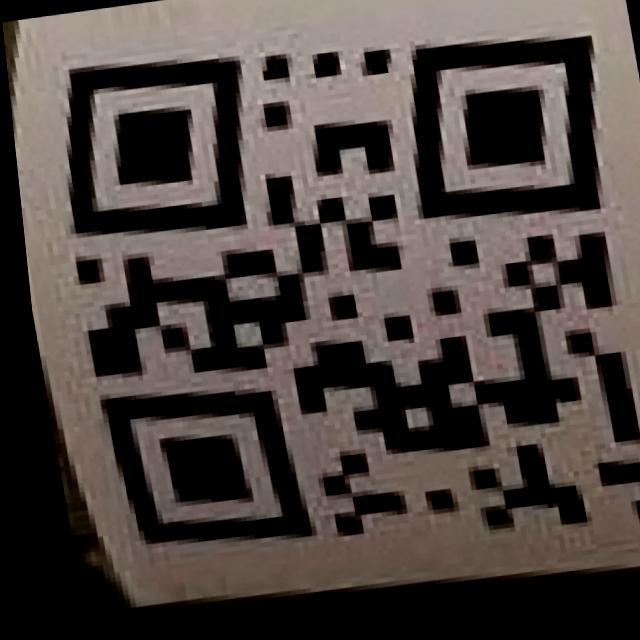QR_CODE: (38, 2, 640, 601)
